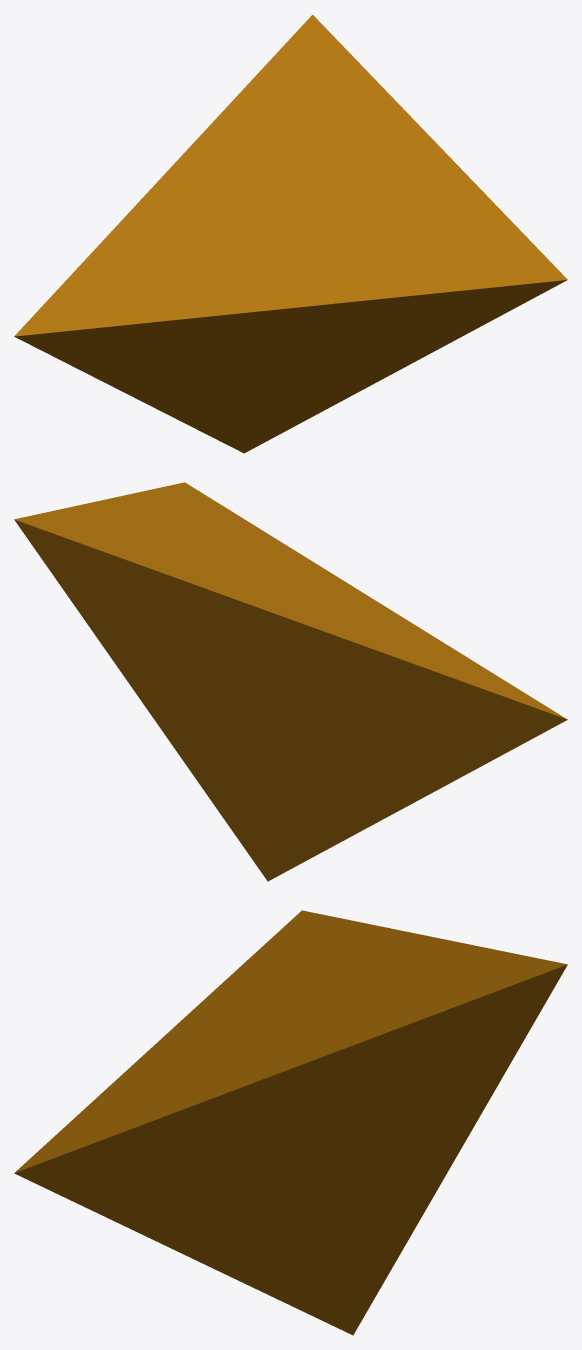
File: Flower_M1_10.fbx
The picture shows the model from 3 angles, top to bottom: view 1: azimuth 30°, elevation 25°; view 2: azimuth 150°, elevation 25°; view 3: azimuth 270°, elevation 25°; orthographic projection. The views are drawn at different scales.
Parts seen in each view (by area): view 1: Flower_M1_10; view 2: Flower_M1_10; view 3: Flower_M1_10.
Boxes of the visible parts, left/top/right/bottom form: Flower_M1_10: left=14, top=14, right=567, bottom=453; Flower_M1_10: left=14, top=482, right=567, bottom=881; Flower_M1_10: left=14, top=910, right=567, bottom=1335.
Size of the model in its own units: 8.48 by 6.24 by 6.68.
